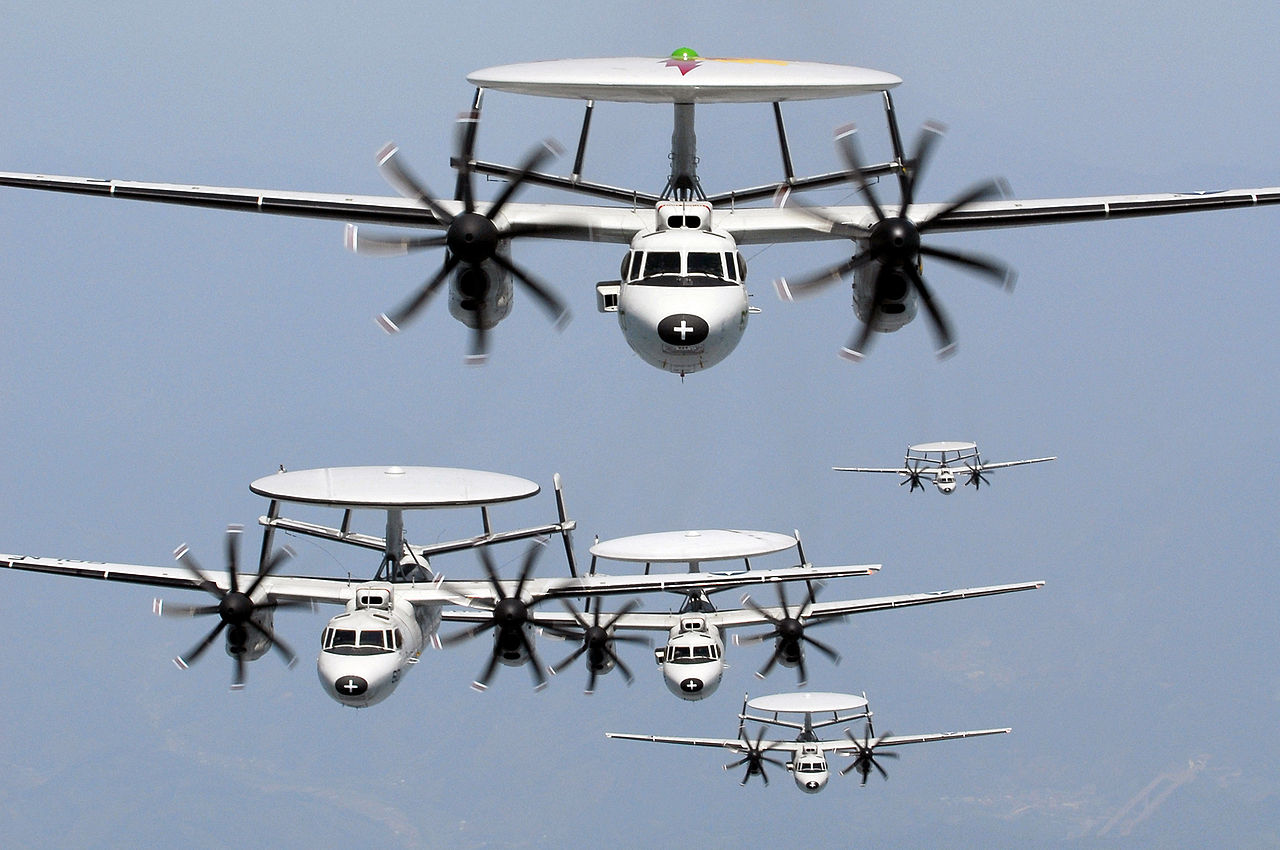E2: (1, 47, 1280, 383), (1, 463, 882, 710), (441, 529, 1046, 703), (604, 691, 1013, 795), (831, 441, 1058, 495)
